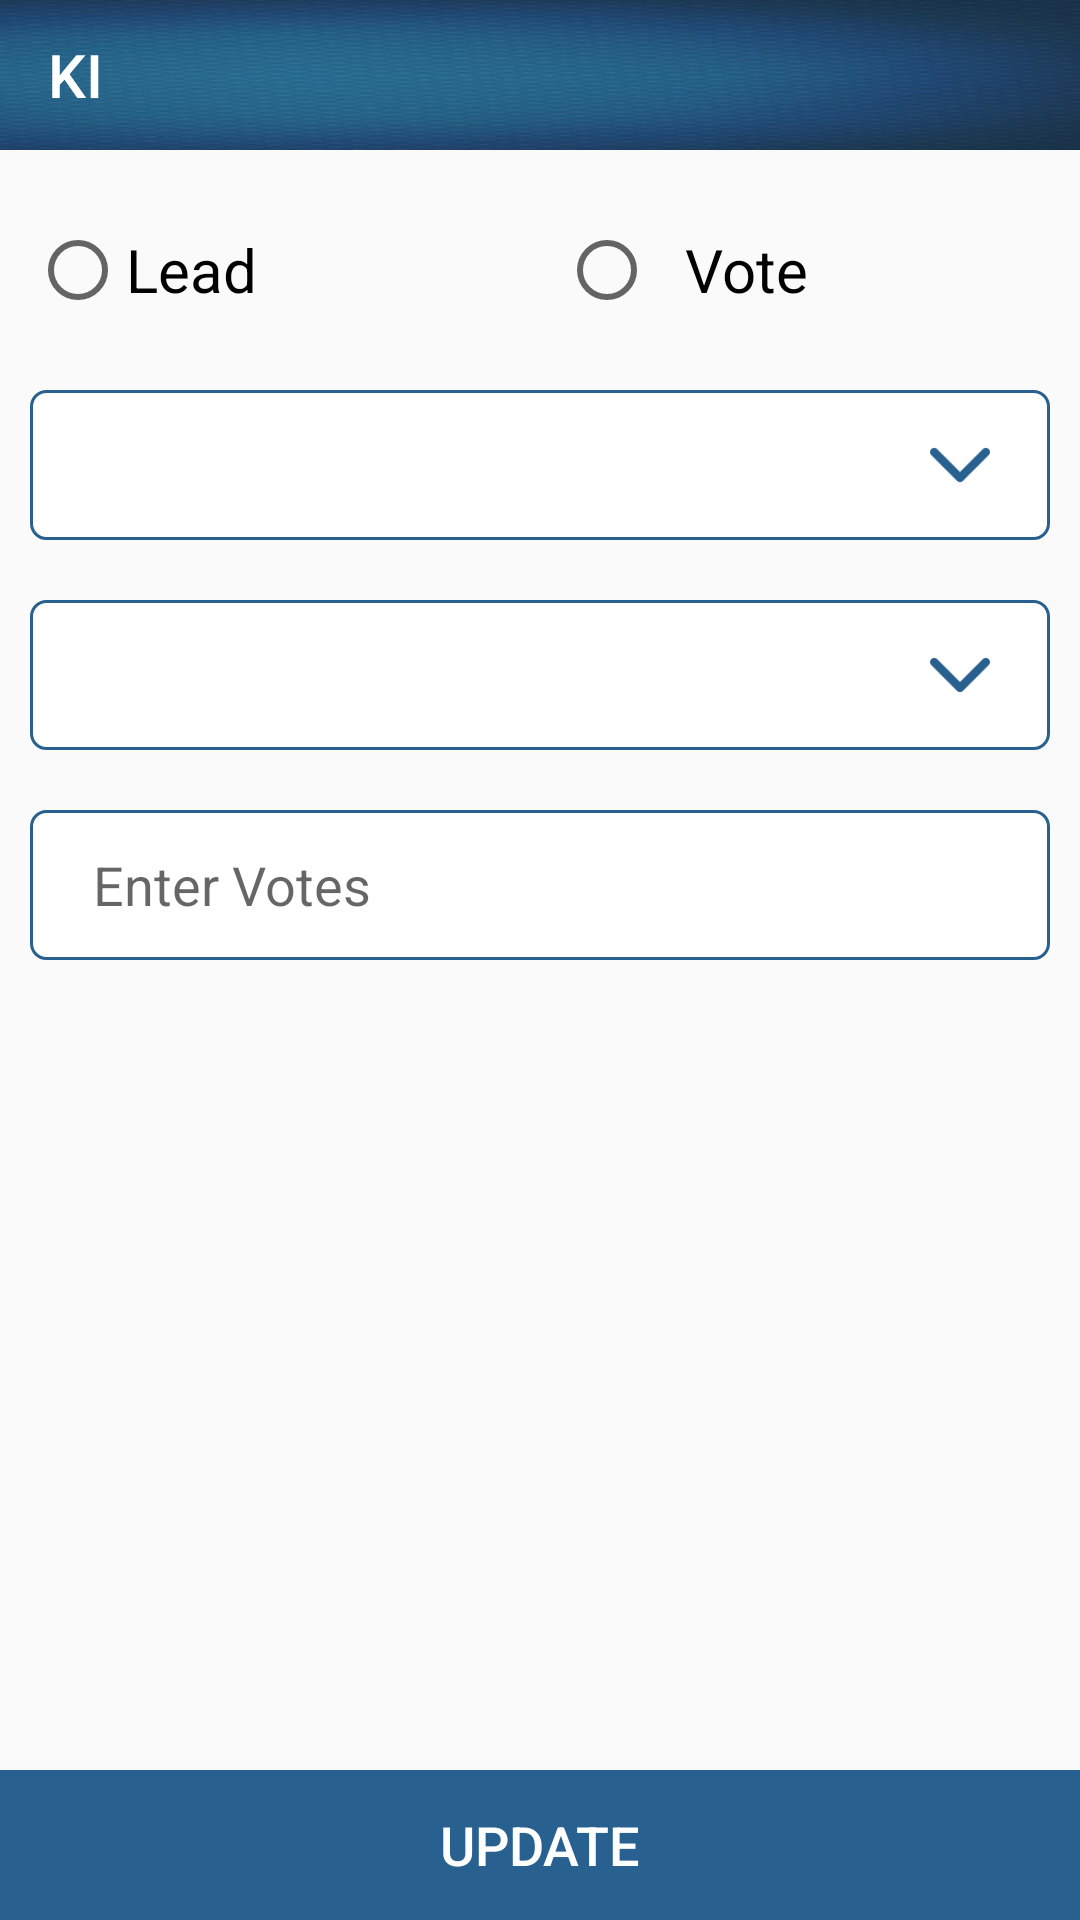

Icon bounding boxes for this 1080w x 1920h phone screenshot, format (x1, y1, x2, y2):
drop down: (930, 447, 990, 483), (930, 657, 990, 693)
